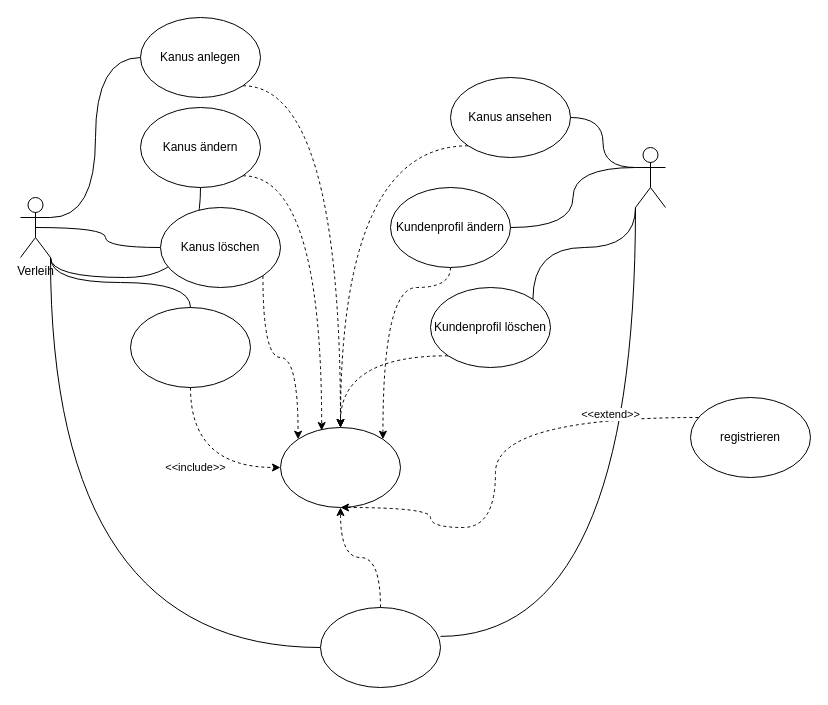
Some shapes in this 828 by 705 pixel diagram are drawn without their labels. Here are the shapes that lost their labels. From the top down, the centre of each, then its label:
At (650,177): "Kunde".
At (190,347): "Reservierung bearbeiten".
At (340,467): "login".
At (380,647): "Reservierung anlegen".
